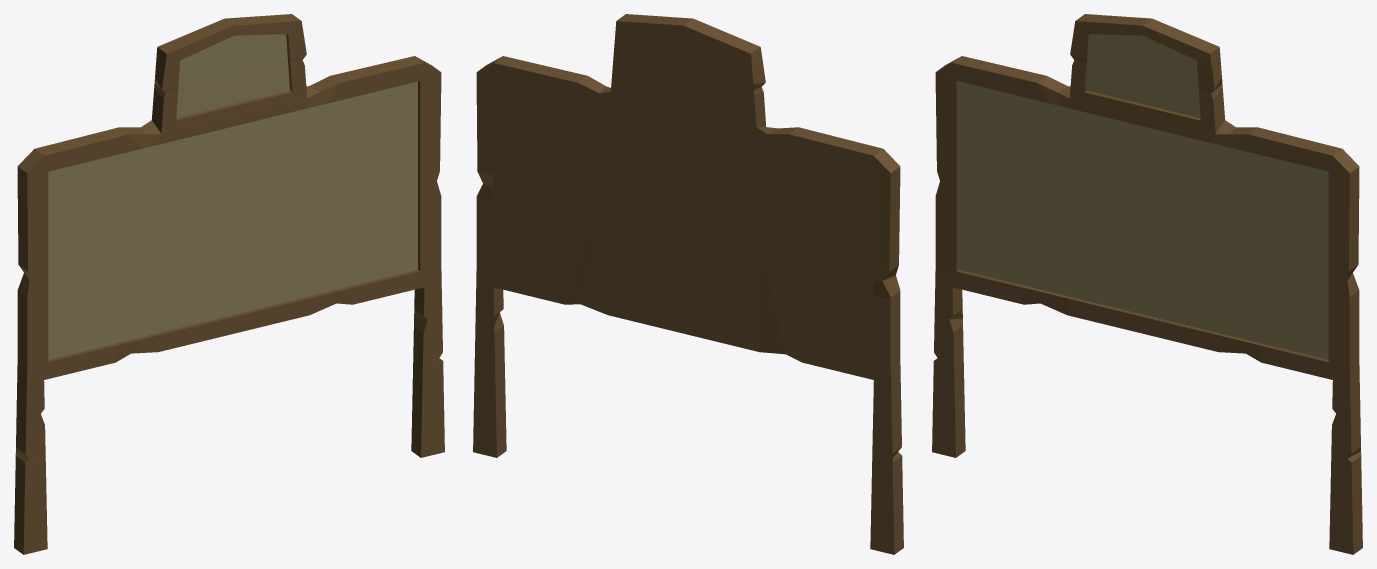
Rendered from Tableau.fbx.
3 views of the same model, side by side, from view 1: azimuth 30°, elevation 25°; view 2: azimuth 150°, elevation 25°; view 3: azimuth 330°, elevation 25° (orthographic).
Visible parts, largest first — view 1: Tableau_LOD0; view 2: Tableau_LOD0; view 3: Tableau_LOD0.
Part boxes in pixels (box(x1,y1,x2,y2)): Tableau_LOD0: box(14, 14, 444, 554); Tableau_LOD0: box(473, 14, 903, 554); Tableau_LOD0: box(932, 14, 1362, 554).
Size of the model in its own units: 393 by 426 by 17.45.
